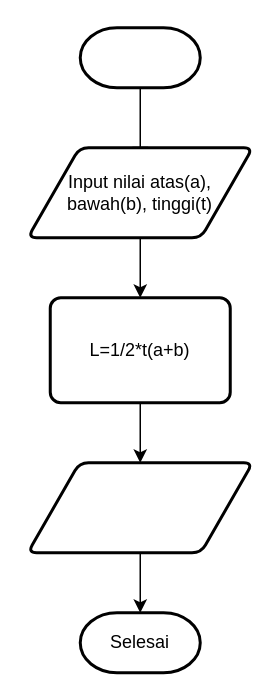
Some shapes in this 279 by 699 pixel diagram are drawn without their labels. Each missing label, with the box of its shape:
Mulai: (78, 26, 201, 88)
Tampilkan Luas (L): (26, 460, 254, 554)
